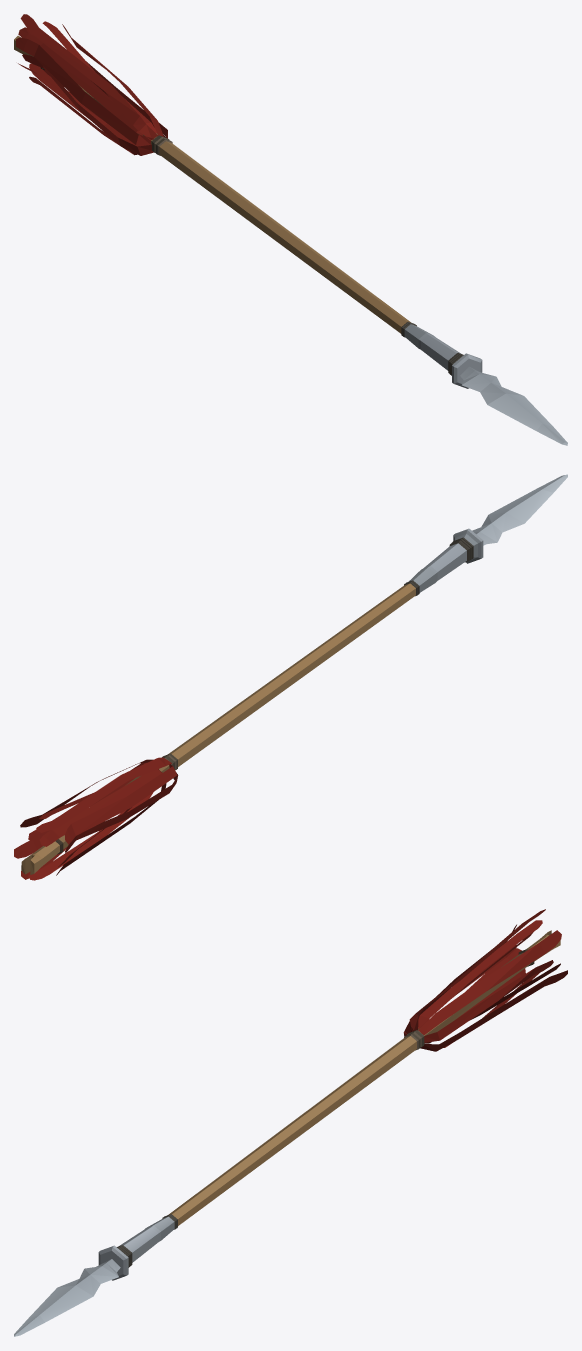
Rendered from fangTianArrow.glb.
3 views of the same model, one above another, from view 1: azimuth 30°, elevation 25°; view 2: azimuth 150°, elevation 25°; view 3: azimuth 330°, elevation 25° (orthographic).
Visible parts, largest first — view 1: fangTianArrow; view 2: fangTianArrow; view 3: fangTianArrow.
Boxes of the visible parts, x1,y1,x2,y2 form: fangTianArrow: [14, 14, 567, 445]; fangTianArrow: [14, 474, 567, 880]; fangTianArrow: [14, 909, 567, 1336].
Bounding box in the file's own units: 0.0656 × 0.064 × 1.03.
